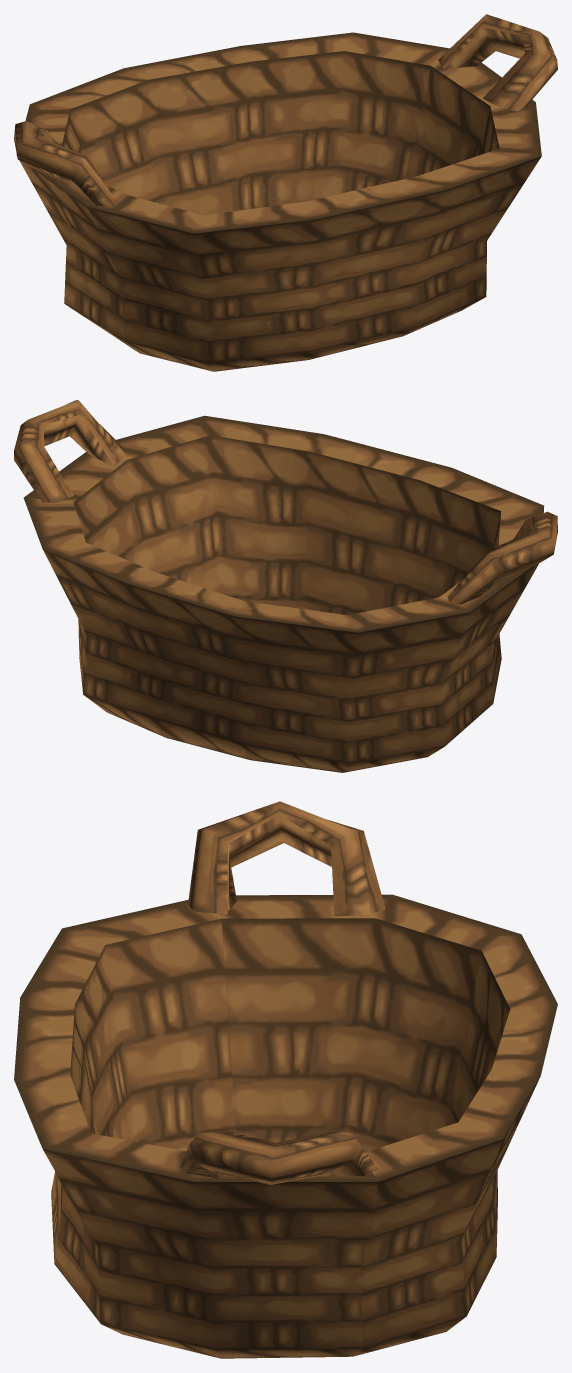
Rendered from SM_PROP_basket_battle_01.fbx.
3 renders of one model, top to bottom at view 1: azimuth 30°, elevation 25°; view 2: azimuth 150°, elevation 25°; view 3: azimuth 270°, elevation 25°, orthographic. The views are drawn at different scales.
Visible parts, largest first — view 1: SM_PROP_basket_battle_01; view 2: SM_PROP_basket_battle_01; view 3: SM_PROP_basket_battle_01.
Boxes of the visible parts, left/top/right/bottom form: SM_PROP_basket_battle_01: left=14, top=14, right=557, bottom=371; SM_PROP_basket_battle_01: left=14, top=400, right=557, bottom=772; SM_PROP_basket_battle_01: left=14, top=801, right=557, bottom=1358.
Size of the model in its own units: 81.44 by 32.69 by 54.88.
